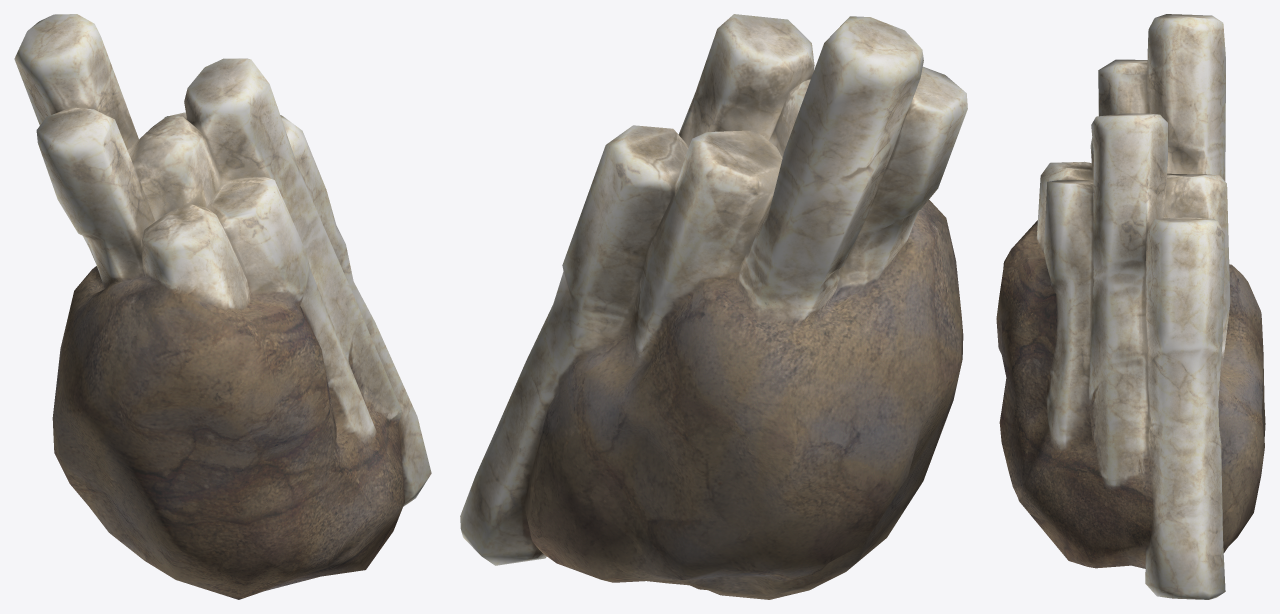
File: SM_StoneNode_2.fbx
3 views of the same model, side by side, from view 1: azimuth 30°, elevation 25°; view 2: azimuth 150°, elevation 25°; view 3: azimuth 270°, elevation 25° (orthographic). The views are drawn at different scales.
Visible parts, largest first — view 1: SM_StoneNode_2_LOD0; view 2: SM_StoneNode_2_LOD0; view 3: SM_StoneNode_2_LOD0.
Part boxes in pixels (x1,y1,x2,y2): SM_StoneNode_2_LOD0: [14, 14, 431, 599]; SM_StoneNode_2_LOD0: [460, 14, 967, 599]; SM_StoneNode_2_LOD0: [996, 14, 1265, 599].
Size of what is drawn, in the model's own units: 1.07 by 1.41 by 0.7309.
